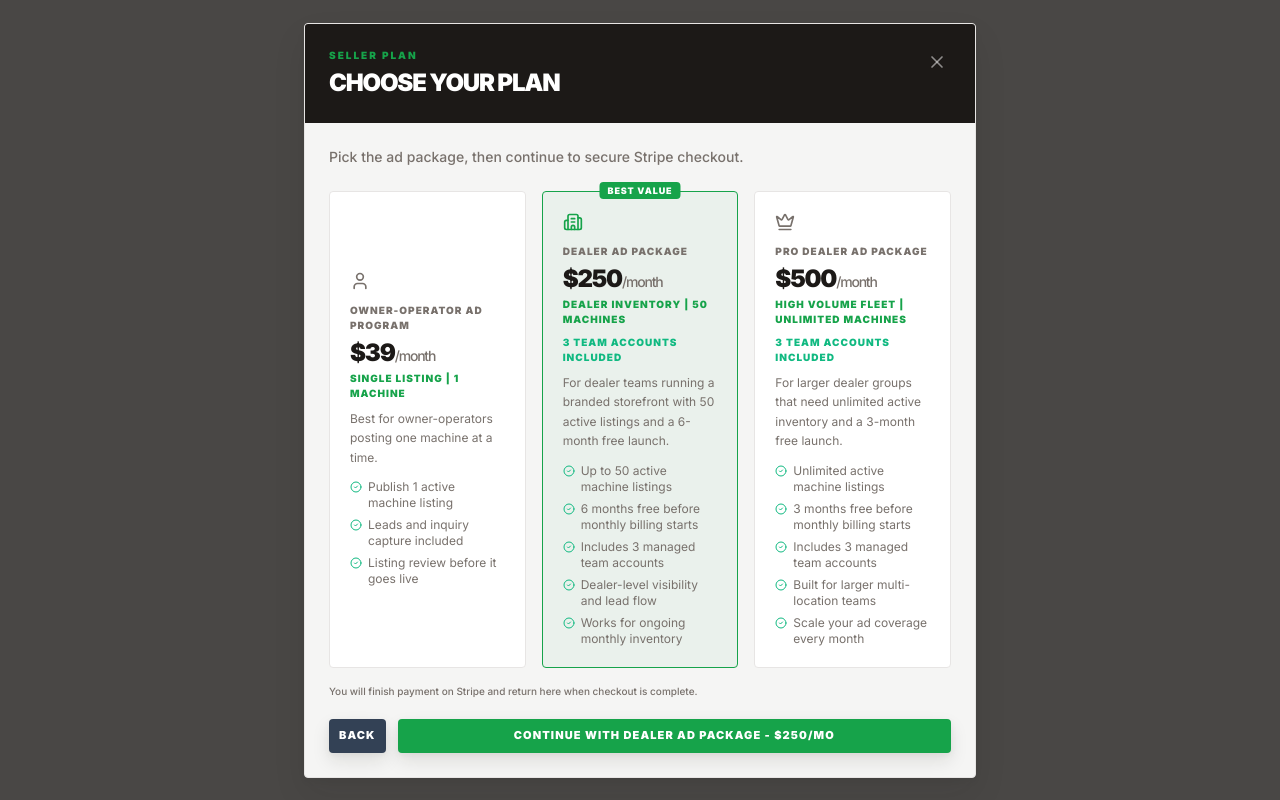
SubscriptionPaymentModal component › shows an error when listing checkout is attempted without a listing id
The image size is (1280, 800).
Click the button "Continue with Dealer Ad Package - $250/mo": (674, 736) [398, 718, 951, 752]
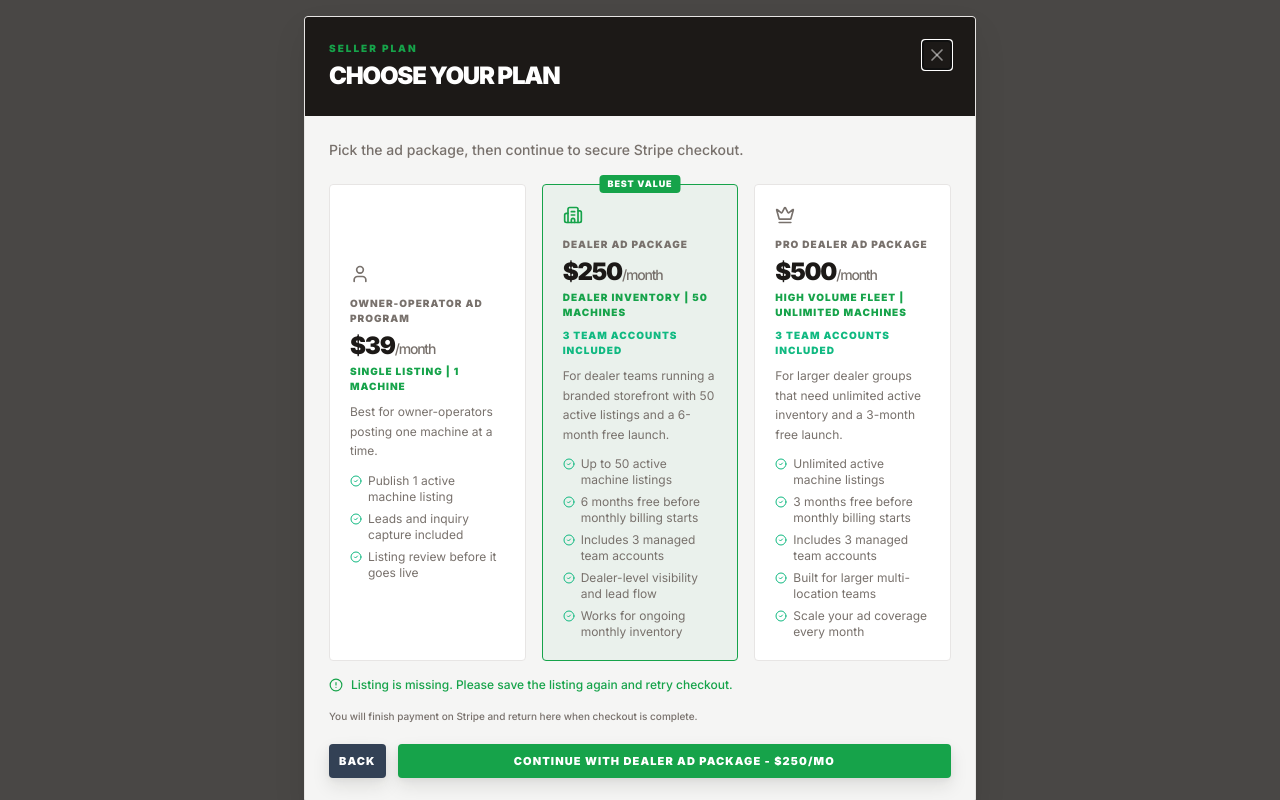
Result: the text "Listing is missing. Please save the listing again and retry checkout." is shown at [351, 677, 733, 693]
